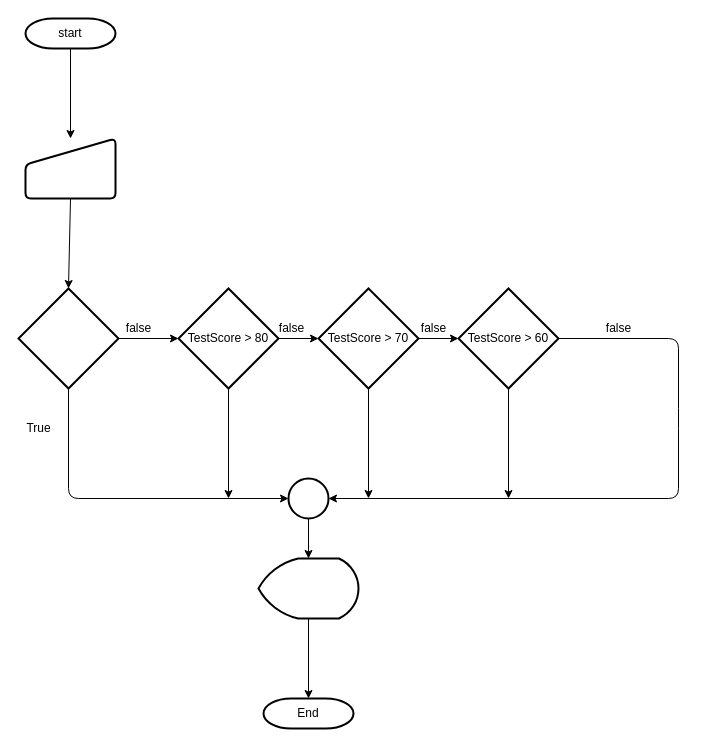
The diagram is 704 pixels wide and 746 high, and some of its shapes have lost their labels. Here are the shapes that lost their labels. From the top down, the centre of each, then its label:
the point at 70,168: TestScore
the point at 68,338: TestScore => 90
the point at 308,588: yougrade
